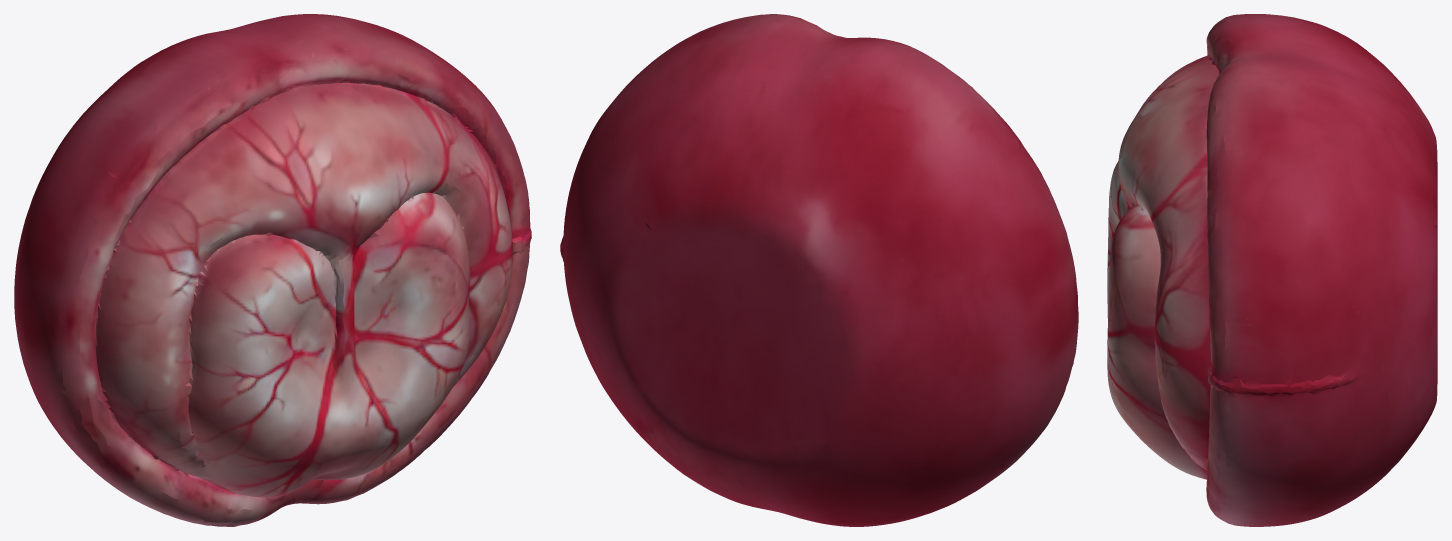
File: abdominal_tumor.glb
3 renders of one model, left to right at view 1: azimuth 30°, elevation 25°; view 2: azimuth 150°, elevation 25°; view 3: azimuth 270°, elevation 25°, orthographic. The views are drawn at different scales.
Parts seen in each view (by area): view 1: model; view 2: model; view 3: model.
Part boxes in pixels (box(x1,y1,x2,y2)): model: box(14, 14, 531, 526); model: box(560, 14, 1078, 526); model: box(1107, 14, 1437, 526).
Bounding box in the file's own units: 1.89 × 1.74 × 1.16.
1 material, 1 textured.
